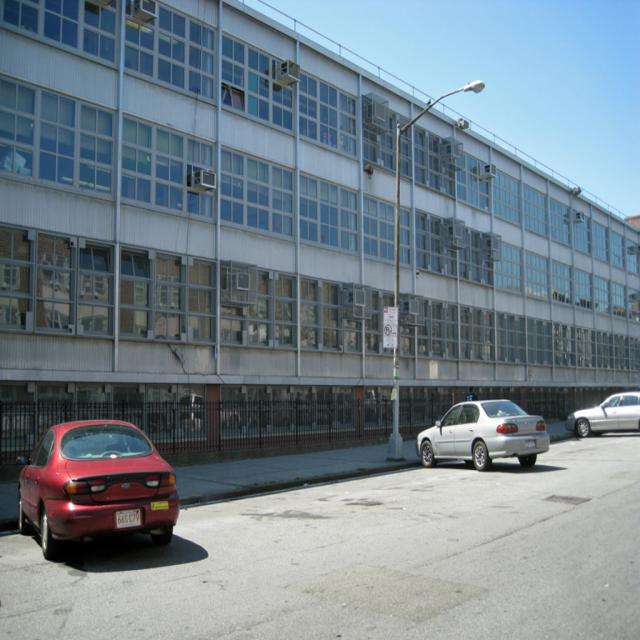car: (11, 416, 179, 559), (415, 394, 548, 472)
